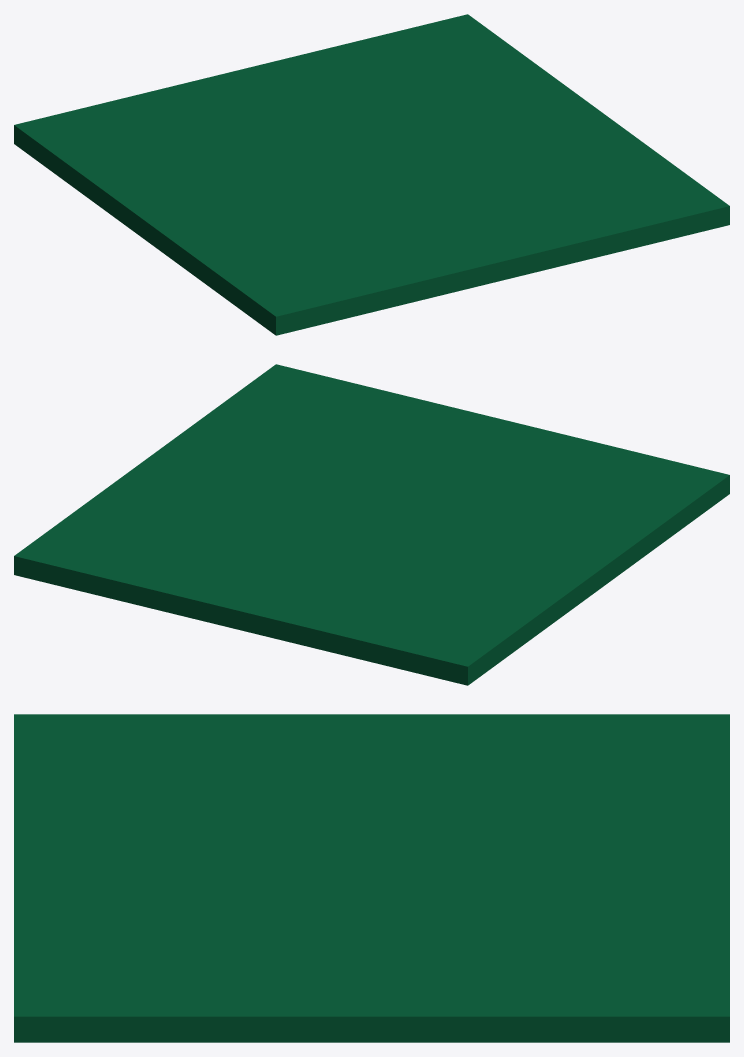
File: mFloorGreen.fbx
The picture shows the model from 3 angles, top to bottom: view 1: azimuth 30°, elevation 25°; view 2: azimuth 150°, elevation 25°; view 3: azimuth 270°, elevation 25°; orthographic projection. The views are drawn at different scales.
Parts seen in each view (by area): view 1: Floor; view 2: Floor; view 3: Floor.
Boxes of the visible parts, x1,y1,x2,y2 form: Floor: (14,14,729,335); Floor: (14,364,729,685); Floor: (14,714,729,1042).
Size of the model in its own units: 50 by 2 by 50.
Materials: 1 (1 with a texture image).
